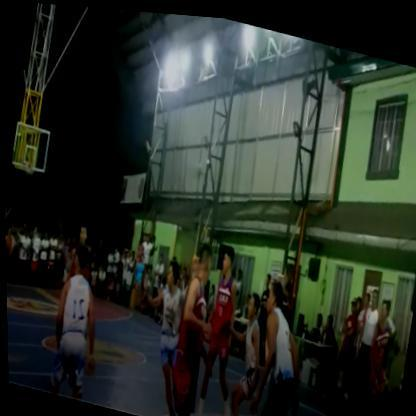rim: (18, 147, 38, 190)
